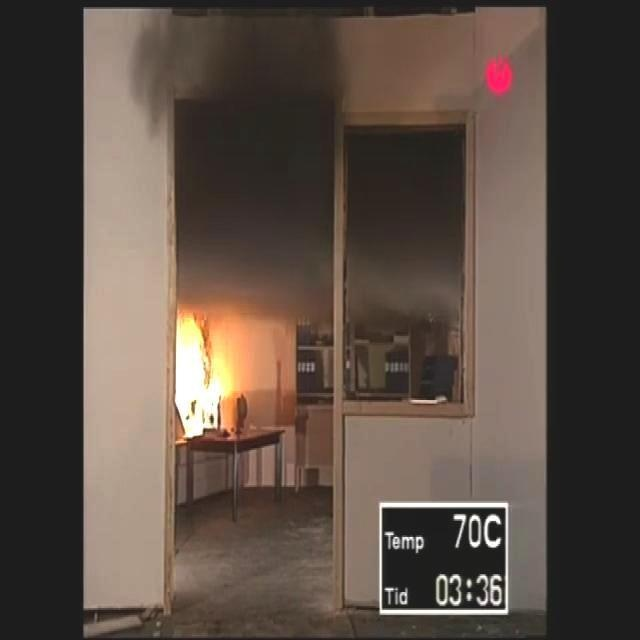fire: (175, 297, 253, 449)
